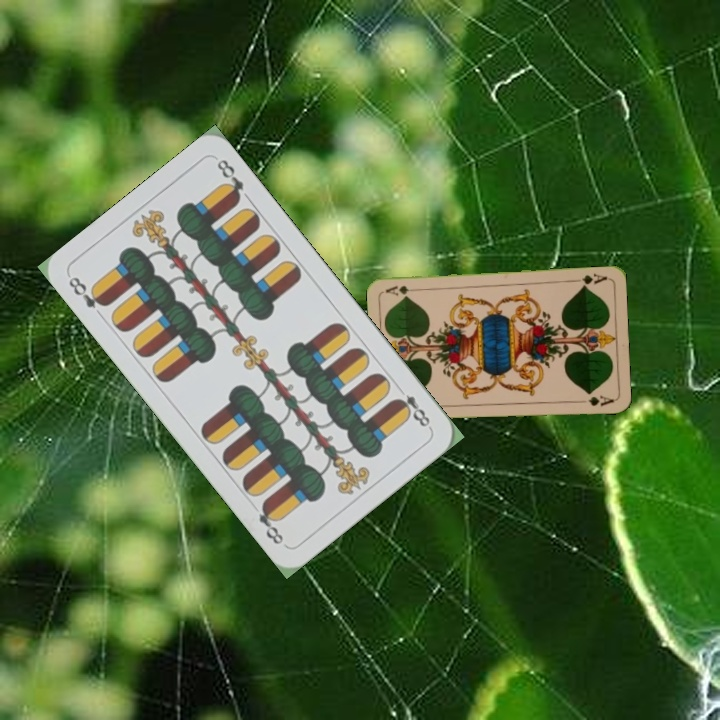E8: (390, 381, 434, 432), (64, 272, 111, 311)
GA: (569, 269, 610, 290)
